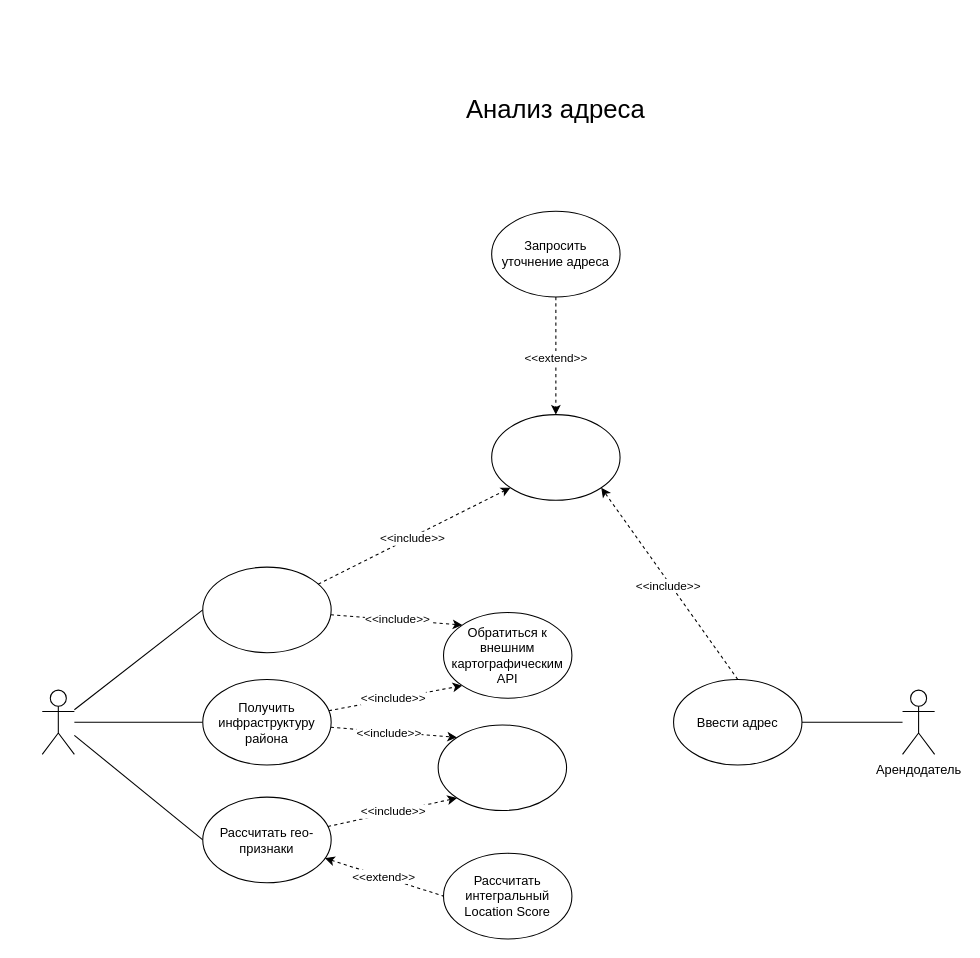
This 980x958 diagram has some shape labels left out. Here are the shapes that lost their labels. From the top down, the centre of each, then its label:
[555,457]: Проверить корректность адреса
[266,609]: Выполнить геокодирование
[57,721]: GEO модель
[502,767]: Рассчитать расстояния до ключевых объектов
